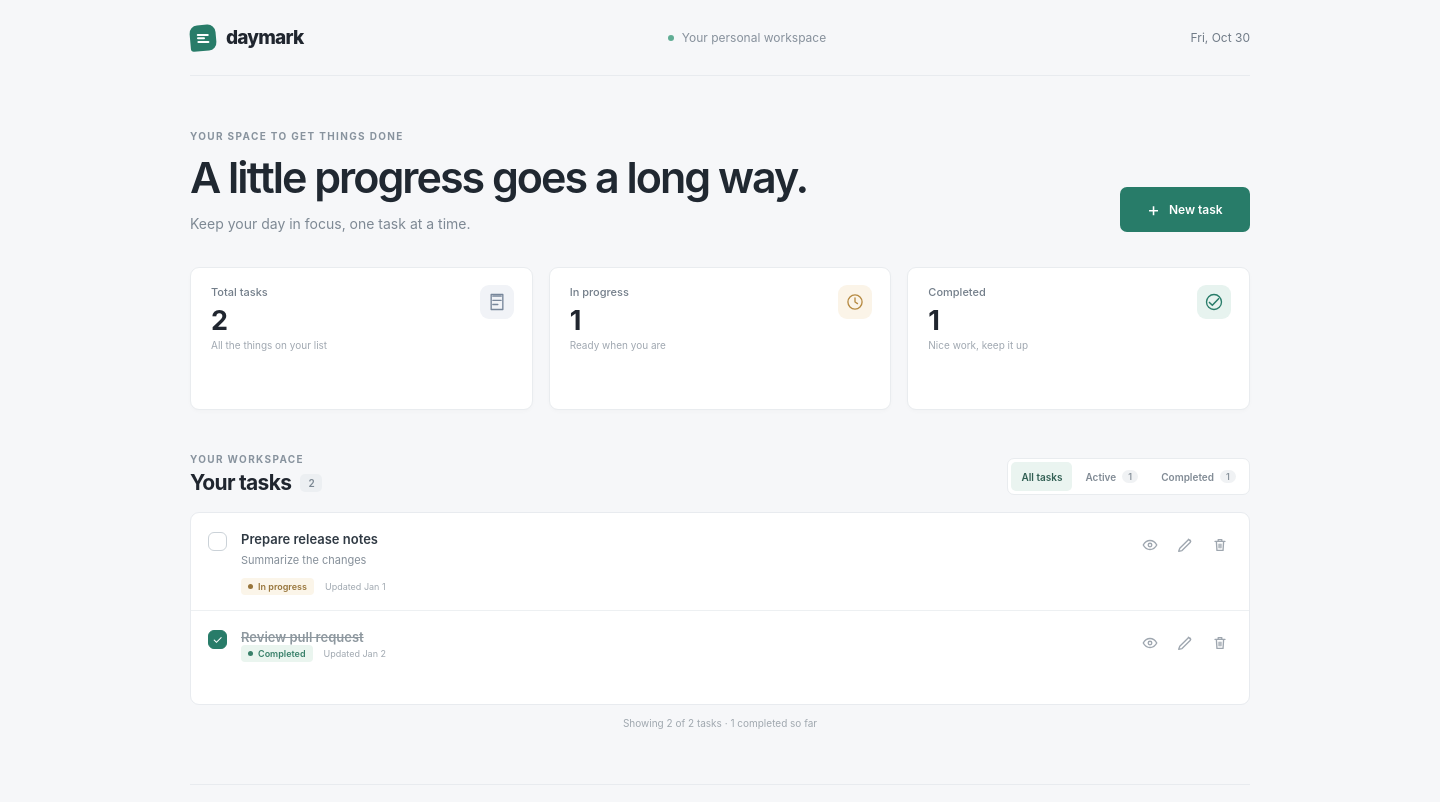
Test: Tasks dashboard › edits a task and saves the updated version
Click the button named "Edit Prepare release notes": (1185, 545) [1168,528,1202,562]
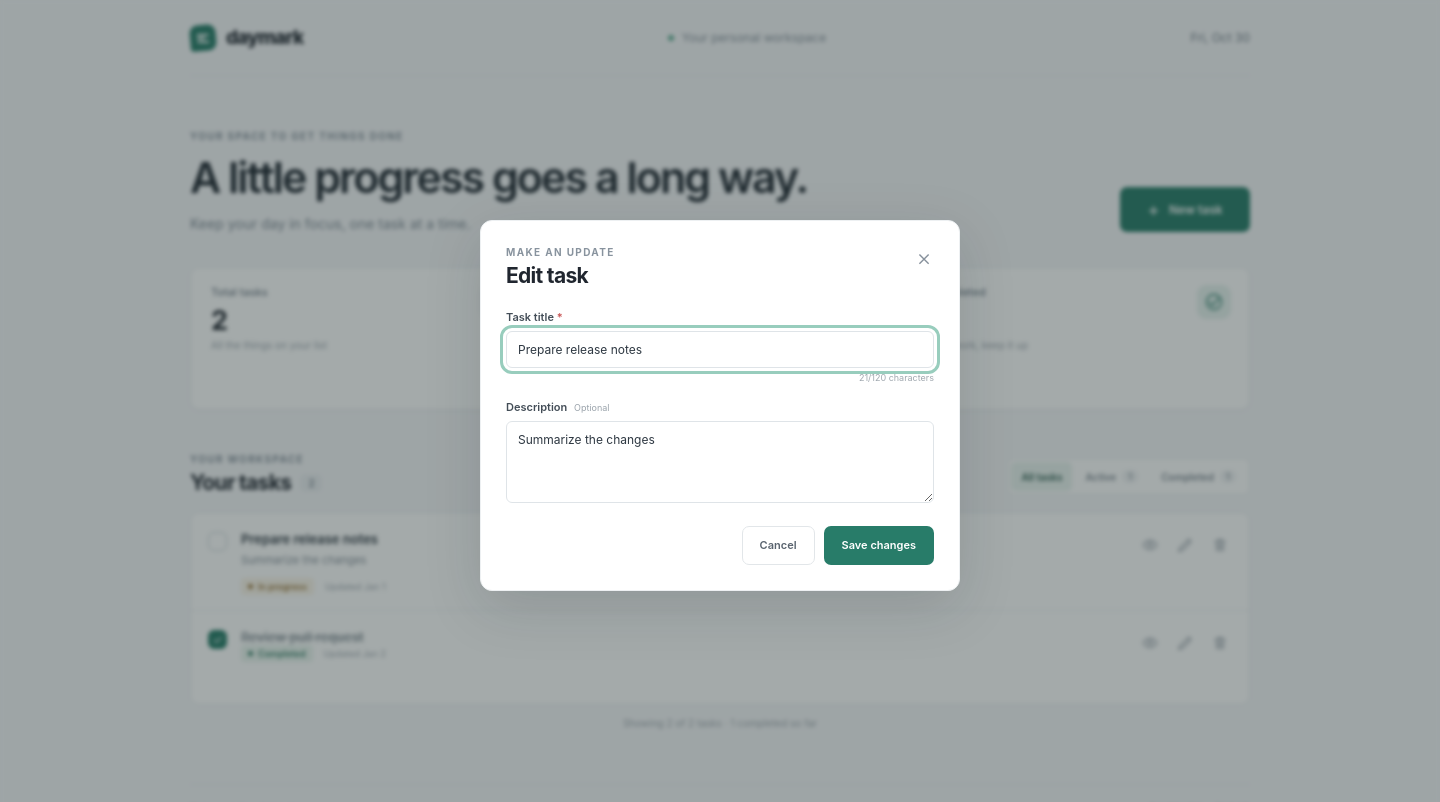
Replace the text in the field labelled "Task title * 21/120 characters" with "Release notes complete": (720, 349) [506,330,934,368]
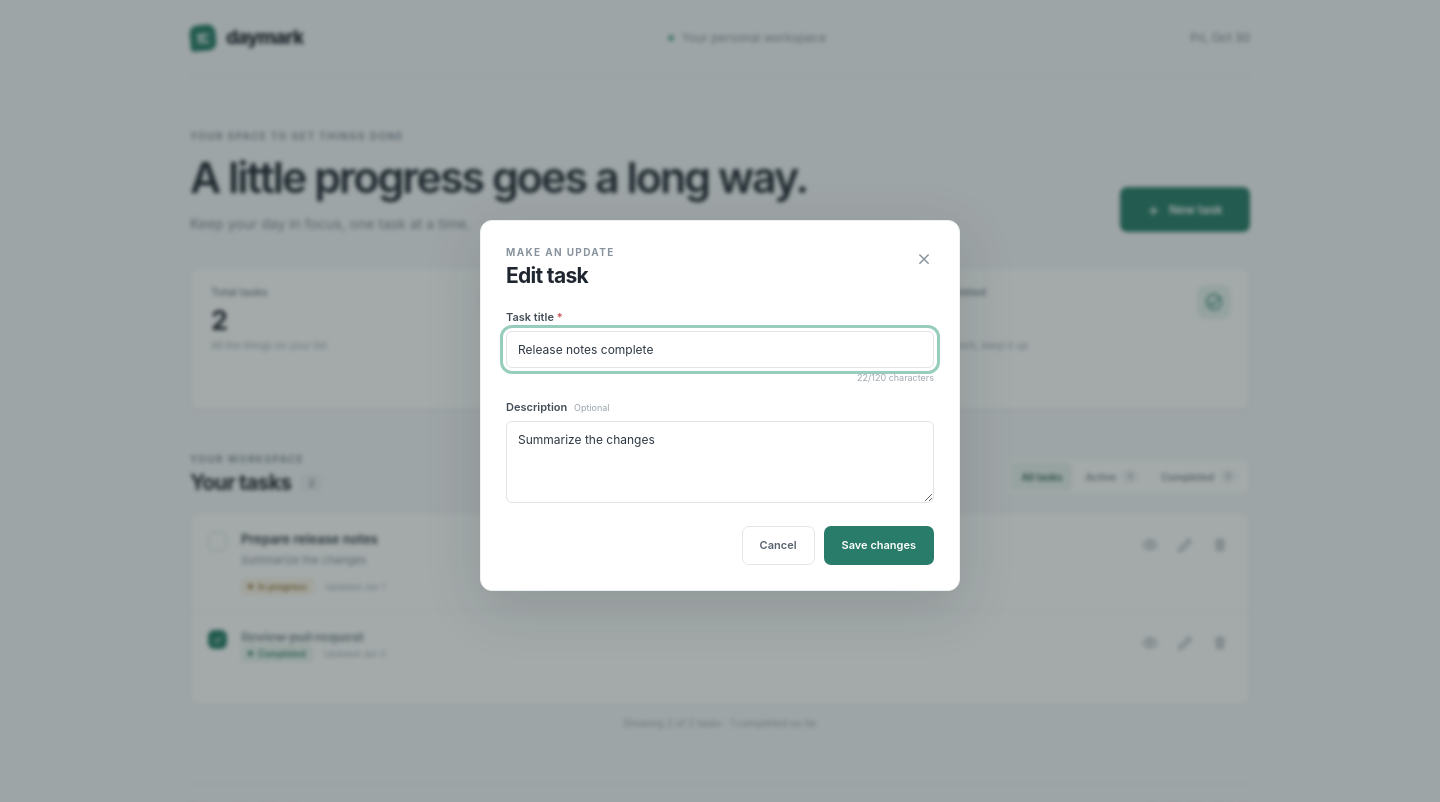
Click the button "Save changes": (879, 545) [824,526,934,564]
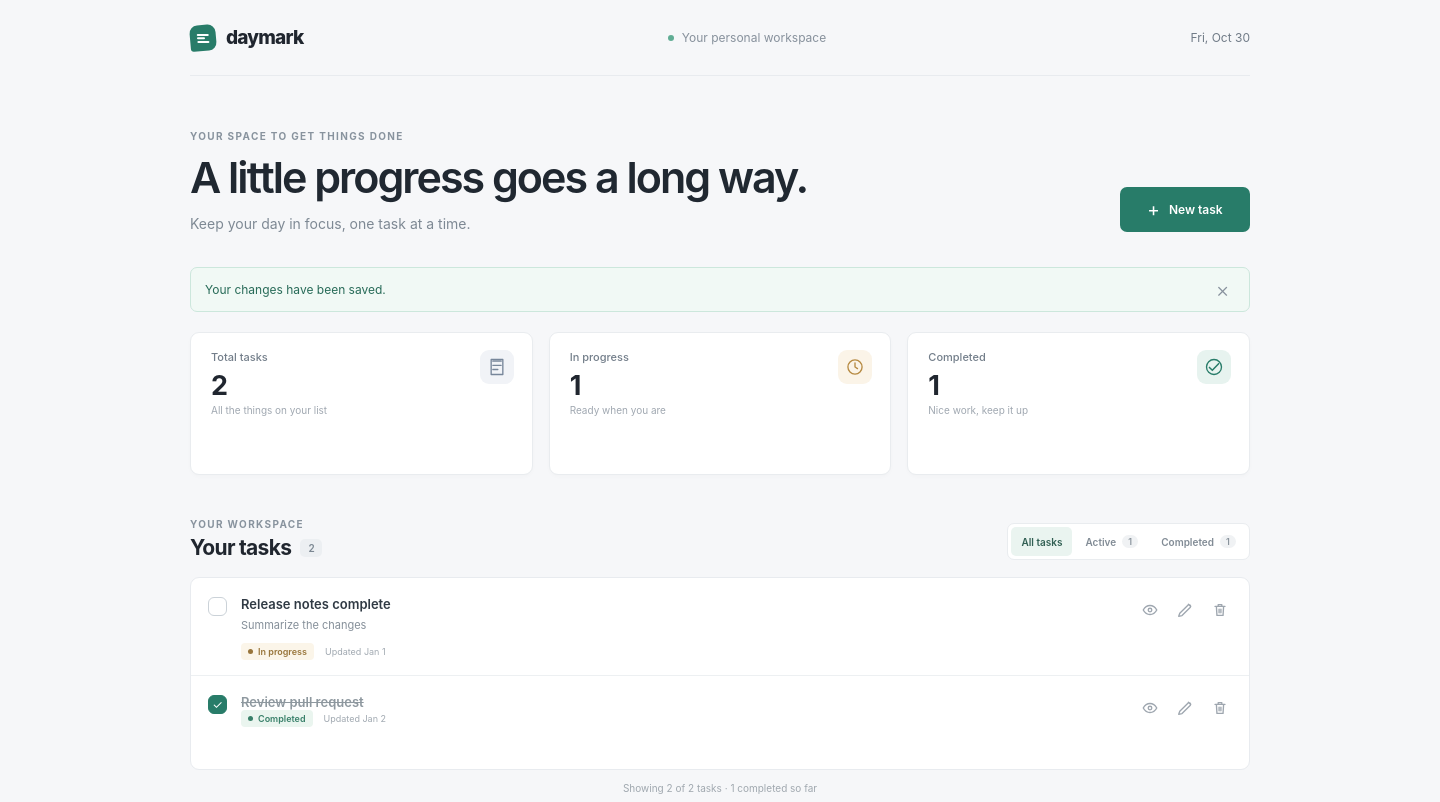
Result: the button "Release notes complete" is shown at [241,596,391,612]
